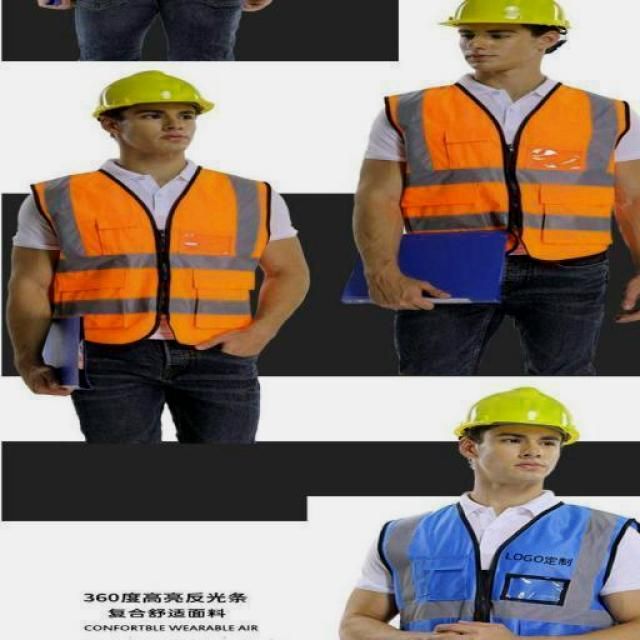face_nomask: (489, 423, 563, 482), (129, 104, 200, 151), (450, 26, 520, 68)
hand_noglove: (362, 263, 448, 316), (13, 351, 78, 403)
head_helmet: (446, 385, 584, 440), (79, 66, 217, 120), (427, 0, 583, 31)
person: (1, 68, 318, 442), (349, 0, 640, 375), (340, 385, 640, 640)
vest: (380, 82, 634, 264), (29, 167, 281, 349), (376, 505, 639, 639)
